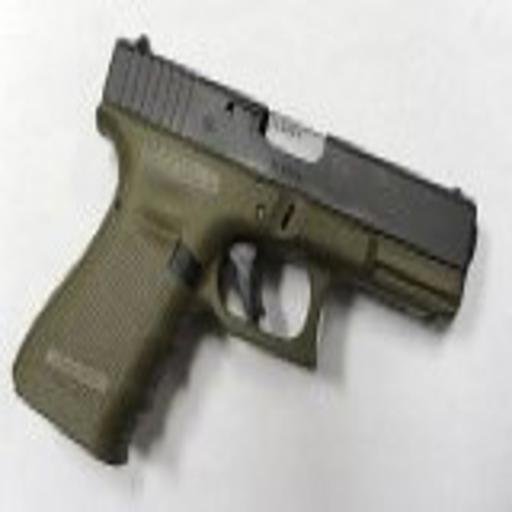Handgun: (11, 28, 482, 472)
